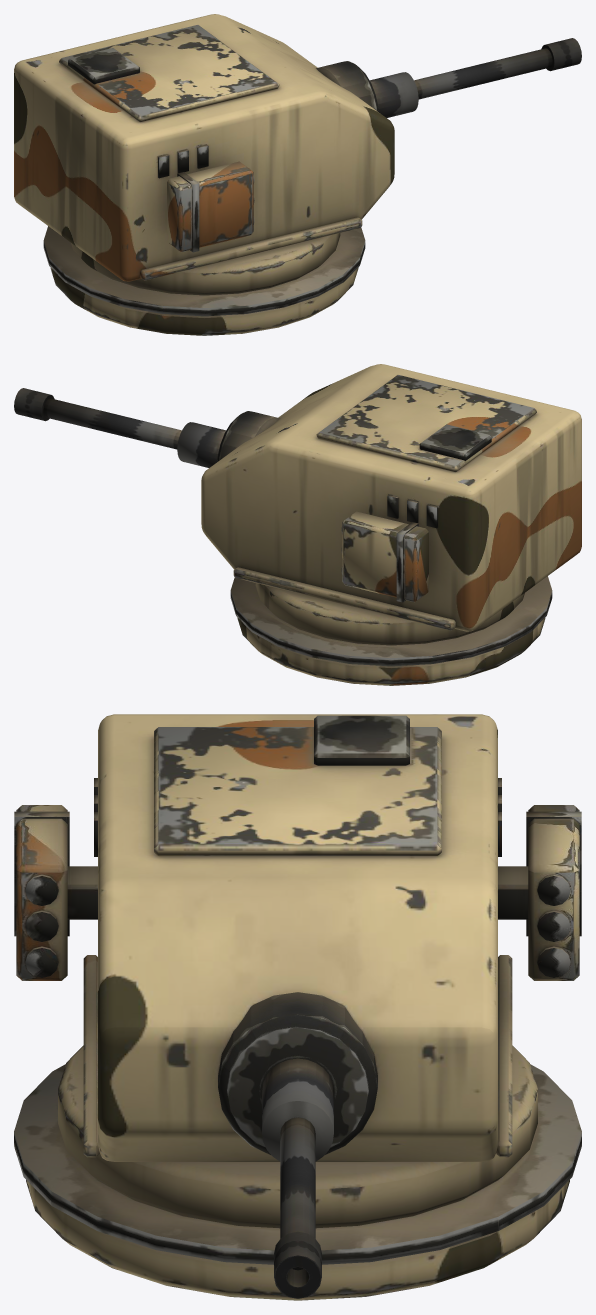
The model's file is turret_grach_t1.glb.
The picture shows the model from 3 angles, top to bottom: view 1: azimuth 30°, elevation 25°; view 2: azimuth 150°, elevation 25°; view 3: azimuth 270°, elevation 25°; orthographic projection. The views are drawn at different scales.
Visible parts, largest first — view 1: turret_light_t1, guns, pods; view 2: turret_light_t1, guns, pods; view 3: turret_light_t1, guns, pods.
Part boxes in pixels (x1,y1,x2,y2): turret_light_t1: (14,14,394,335); guns: (316,38,581,117); pods: (167,161,254,252); turret_light_t1: (201,364,581,685); guns: (14,388,279,467); pods: (341,511,428,602); turret_light_t1: (14,714,581,1300); guns: (218,992,377,1298); pods: (14,805,581,980).
Bounding box in the file's own units: 1.14 × 0.4664 × 0.6248.
Materials: 3 (3 with a texture image).
